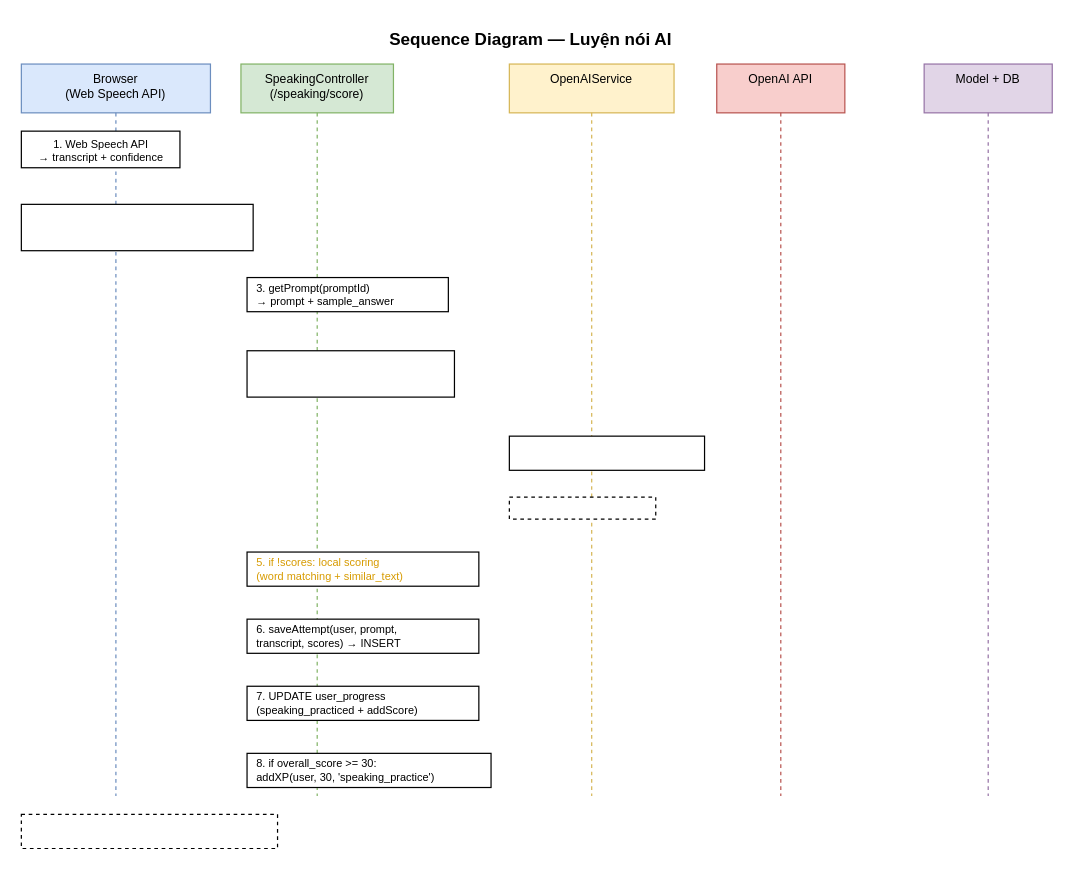
Image size: 1074x870. Some labels were removed from this diagram. The shapes that lost their labels are listed below. From the top down, each one's centre as x and y in pixels, then its label:
At [136,227]: "2. POST /speaking/score JSON {prompt_id, transcript, confidence}".
At [350,373]: "4. if isAvailable(): scoreSpeaking(transcript, sample_answer)".
At [606,452]: "POST /v1/chat/completions (GPT-3.5 Turbo)".
At [582,507]: "AI scores JSON".
At [149,831]: "9. JSON {success, attempt_id, scores, transcript, ai_used}".
